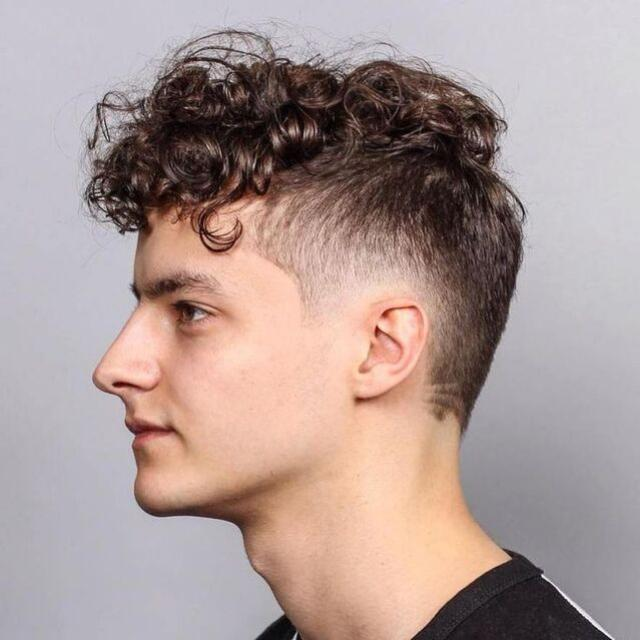Nonhelmet: (78, 25, 529, 536)
